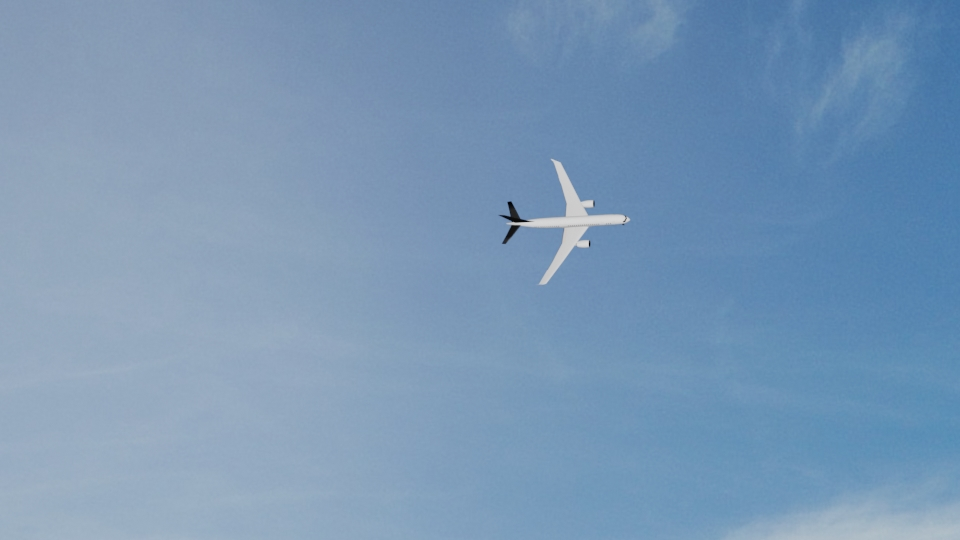plane: (500, 155, 633, 285)
